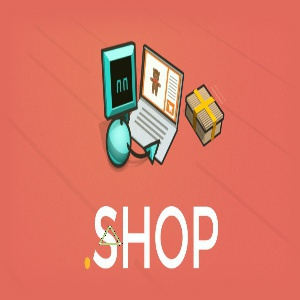triangle: (97, 224, 124, 247)
